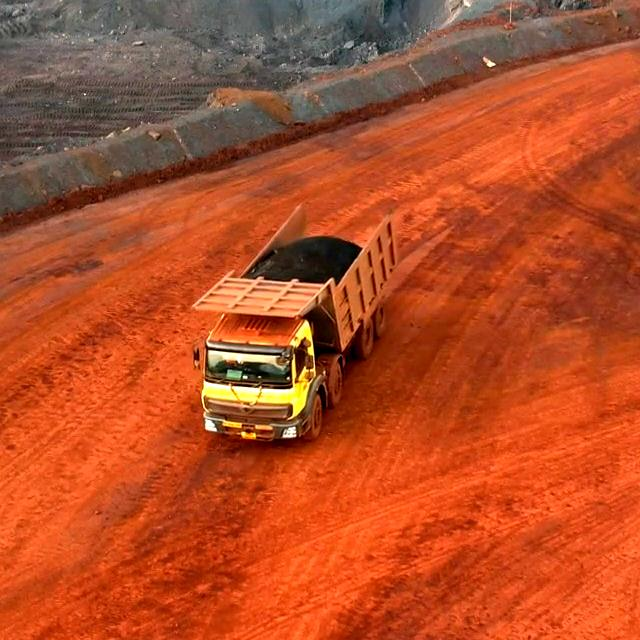Dumper truck: (197, 316, 322, 437)
